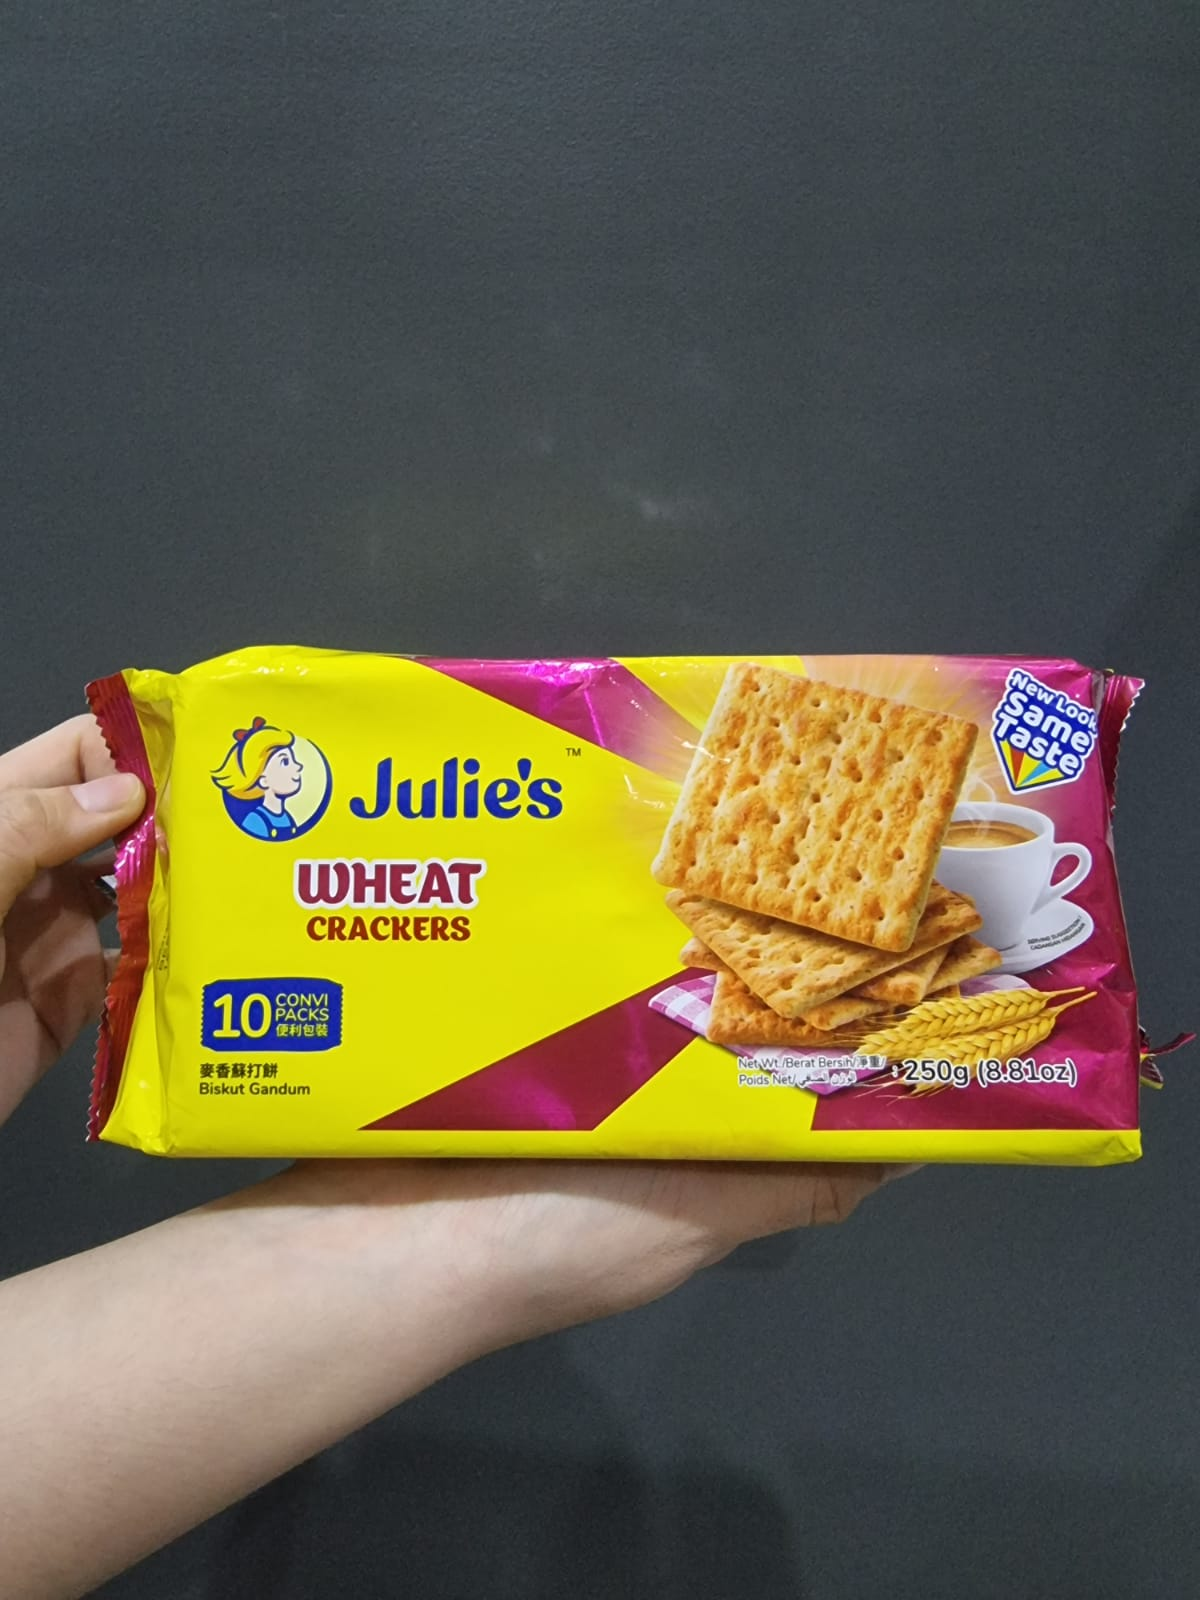Biscuits: (166, 661, 1123, 1138)
